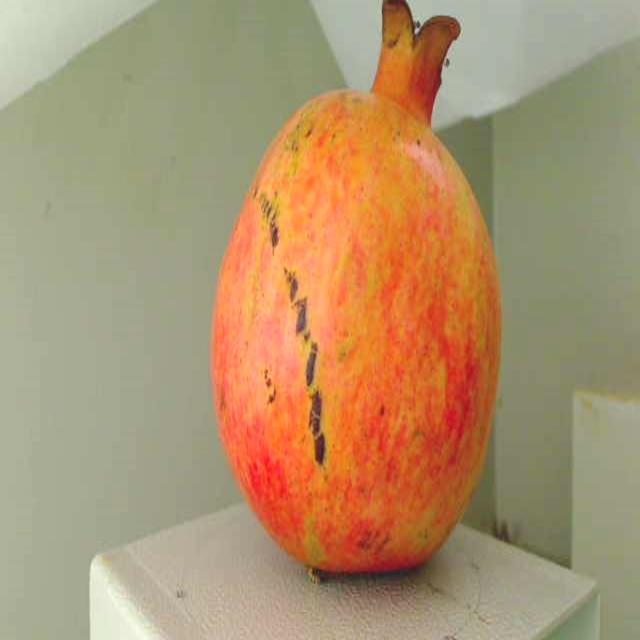pomegranate: (206, 0, 512, 590)
